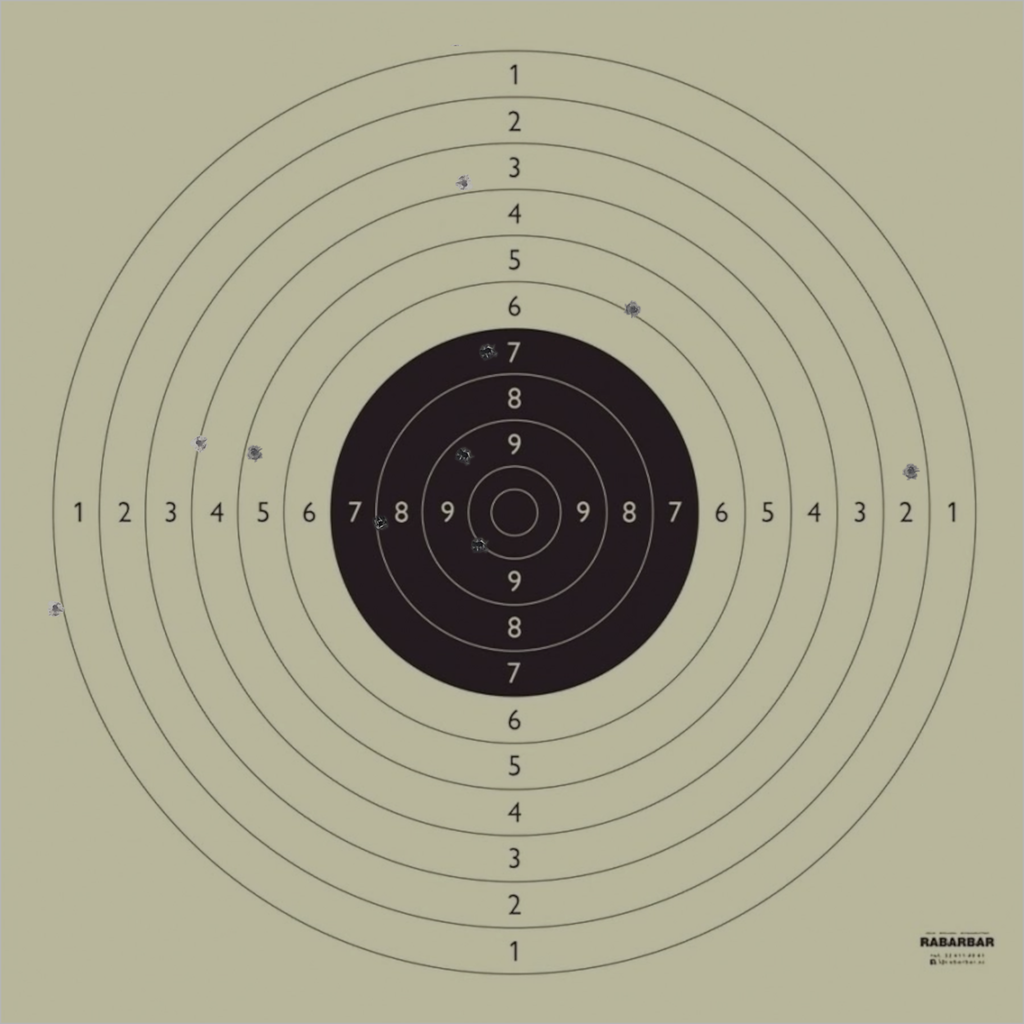0 punktow: (897, 18, 916, 36)
1 punkt: (46, 599, 65, 618)
10 punktow: (471, 535, 489, 554)
2 punkty: (902, 462, 920, 480)
3 punkty: (455, 174, 473, 193)
4 punkty: (190, 434, 209, 452)
5 punktow: (245, 443, 264, 462)
6 punktow: (624, 300, 642, 319)
7 punktow: (479, 342, 497, 360)
8 punktow: (371, 515, 390, 533)
9 punktow: (456, 446, 474, 465)
